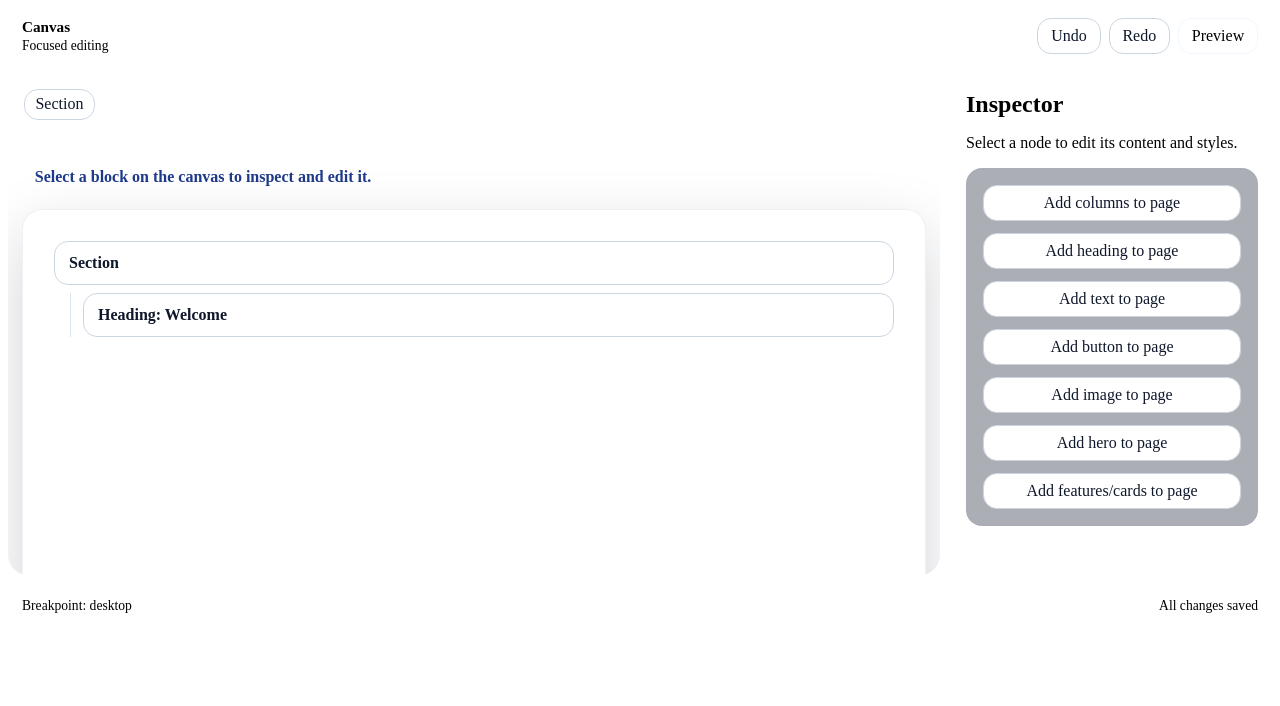
Test: editor shell flow › adds a new block to the page when existing content has no selection
What coordinates should you click on to do the following:
click the button "Add heading to page"
I would click on:
 (1112, 251)
Its box is [983,233,1241,269].
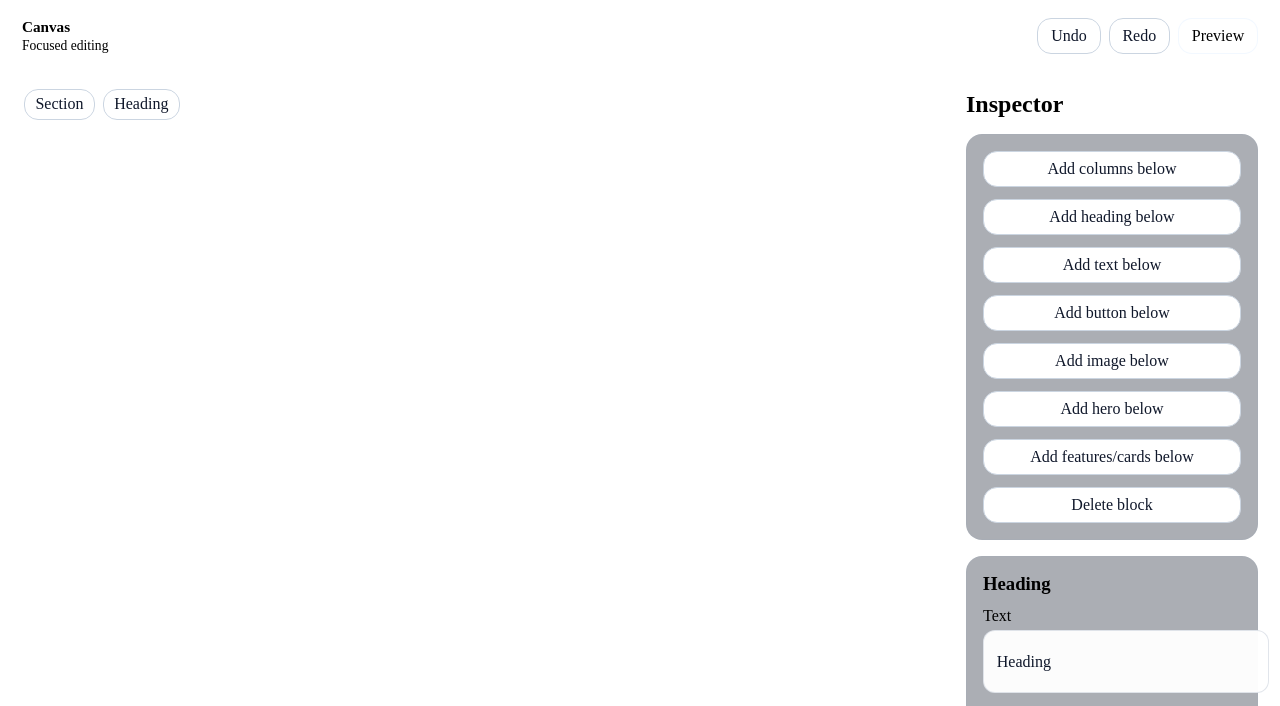
Result: the field labelled "Text" holds "Heading" at [983,630,1269,693]
